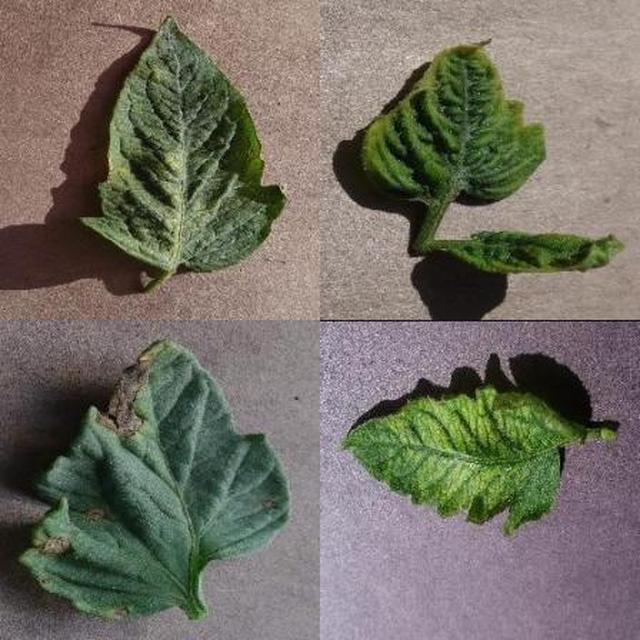Spider Mites Leaf: (221, 168, 640, 640)
